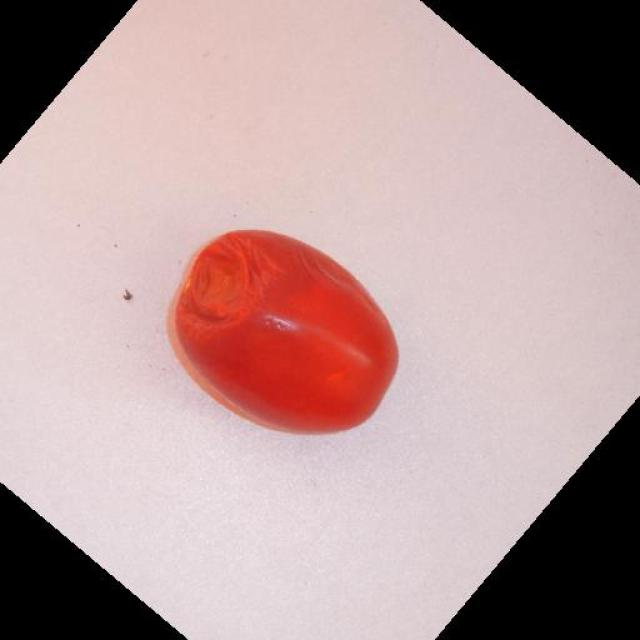Stale_tomato: (173, 217, 293, 354)
